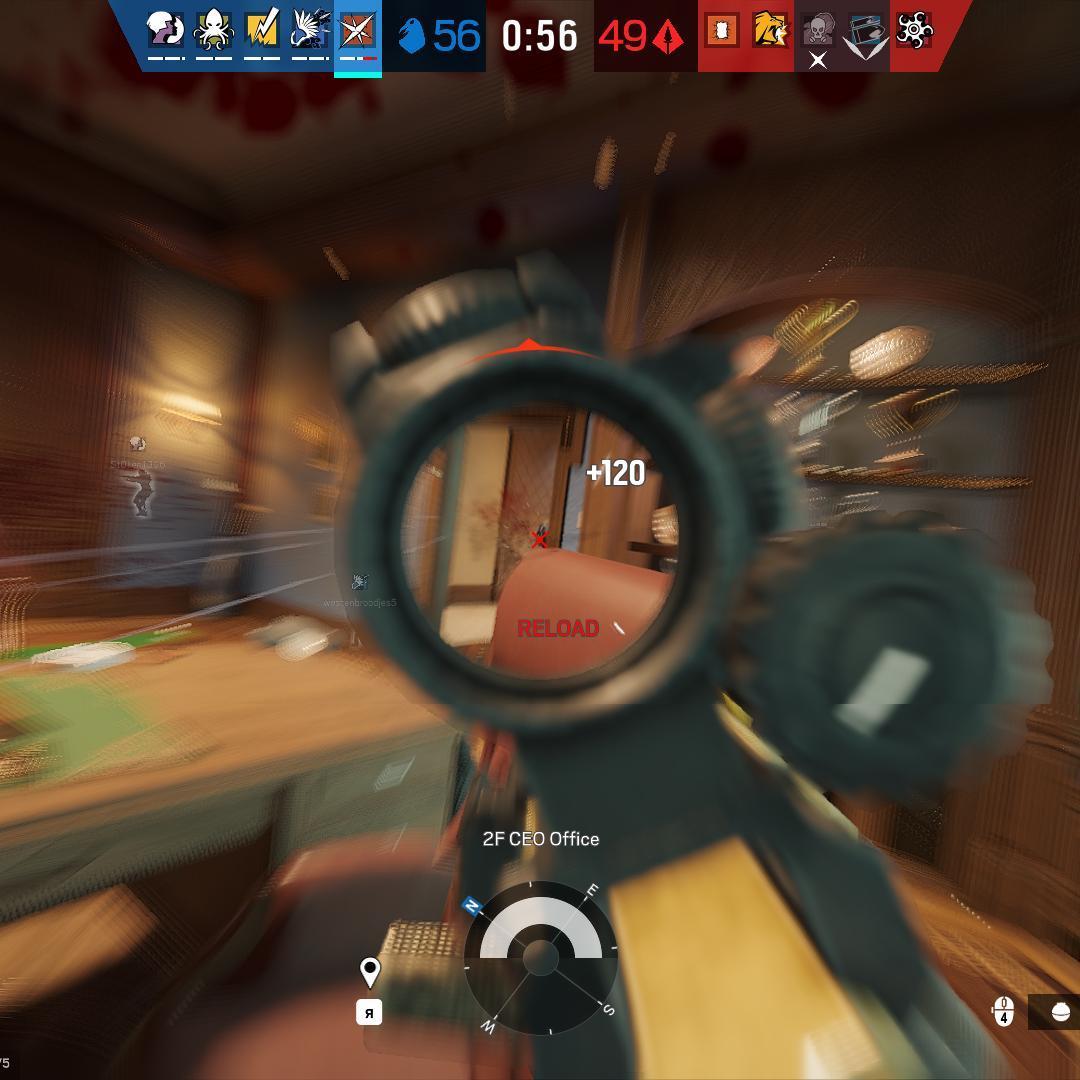Friend_label: (322, 569, 396, 612), (109, 434, 165, 471)
